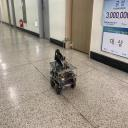cart: (48, 60, 78, 95)
